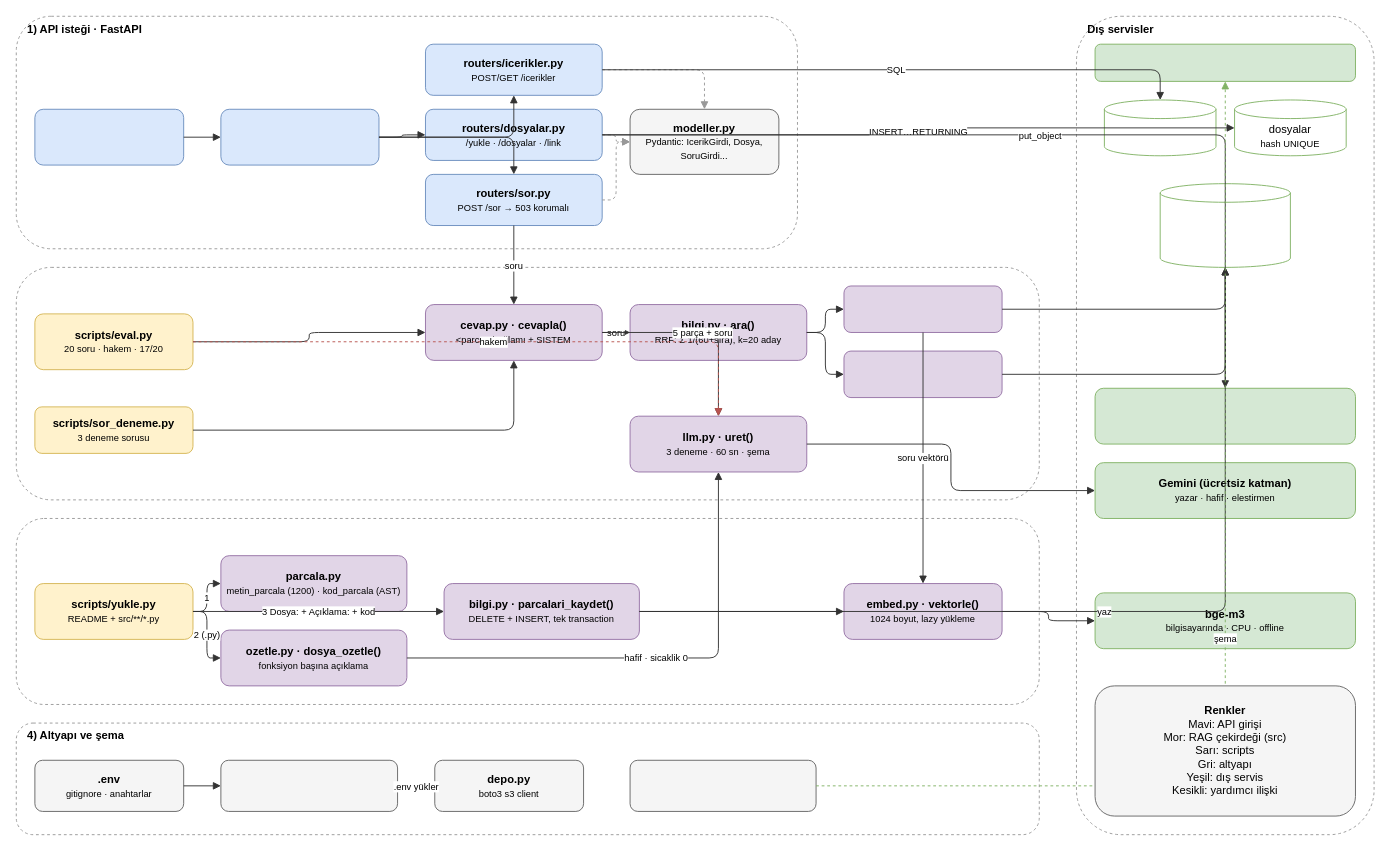
This 1390x851 diagram has some shape labels left out. The shapes that lost their labels are listed below. From the top down, each one's box as (x1, y1, x2, y2) in pixels, then its label:
(1094, 43, 1355, 81): Neon Postgres pgvector + tsvector
(34, 108, 184, 165): Kullanıcı Swagger /docs · tarayıcı
(220, 108, 379, 165): main.py FastAPI app + 3 router
(1103, 99, 1216, 156): icerikler
(1159, 183, 1290, 267): parcalar embedding (HNSW) arama (GIN)
(843, 285, 1002, 332): anlam_ara() embedding <=> vektör
(15, 266, 1039, 500): 2) Soru akışı (RAG) · her soruda
(843, 350, 1002, 398): kelime_ara() tsvector · OR · ts_rank
(1094, 387, 1355, 444): Supabase Storage S3 uyumlu · presigned link
(15, 518, 1039, 704): 3) Yükleme akışı · scripts/yukle.py · bir kez
(220, 759, 398, 811): db.py engine (SQLAlchemy + psycopg)
(629, 759, 816, 811): Alembic migrations 5 adım · head 7a0eeac918b6
